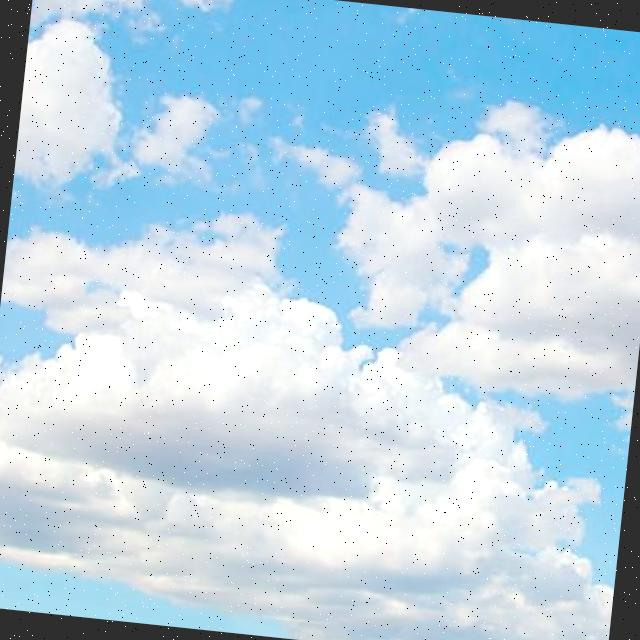Cu: (1, 192, 640, 640)
